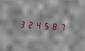eight: (50, 20, 57, 32)
five: (42, 19, 49, 31)
four: (34, 19, 41, 30)
seven: (58, 21, 65, 32)
three: (17, 18, 24, 29)
two: (25, 18, 32, 30)
